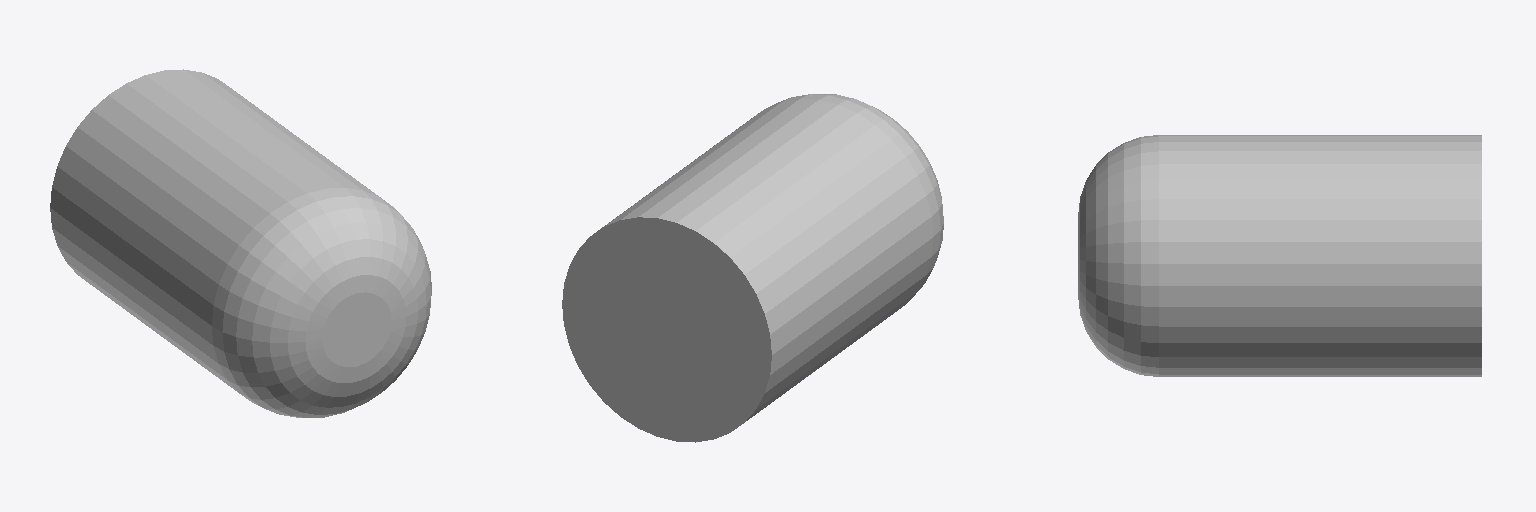
The model's file is LED3mm_v1.obj.
3 renders of one model, left to right at view 1: azimuth 30°, elevation 25°; view 2: azimuth 150°, elevation 25°; view 3: azimuth 270°, elevation 25°, orthographic.
Parts seen in each view (by area): view 1: Body1; view 2: Body1; view 3: Body1.
Boxes of the visible parts, box(x1,y1,x2,y2) form: Body1: box(50, 69, 431, 417); Body1: box(562, 94, 943, 442); Body1: box(1078, 135, 1481, 376).
Bounding box in the file's own units: 3 × 2.99 × 5.